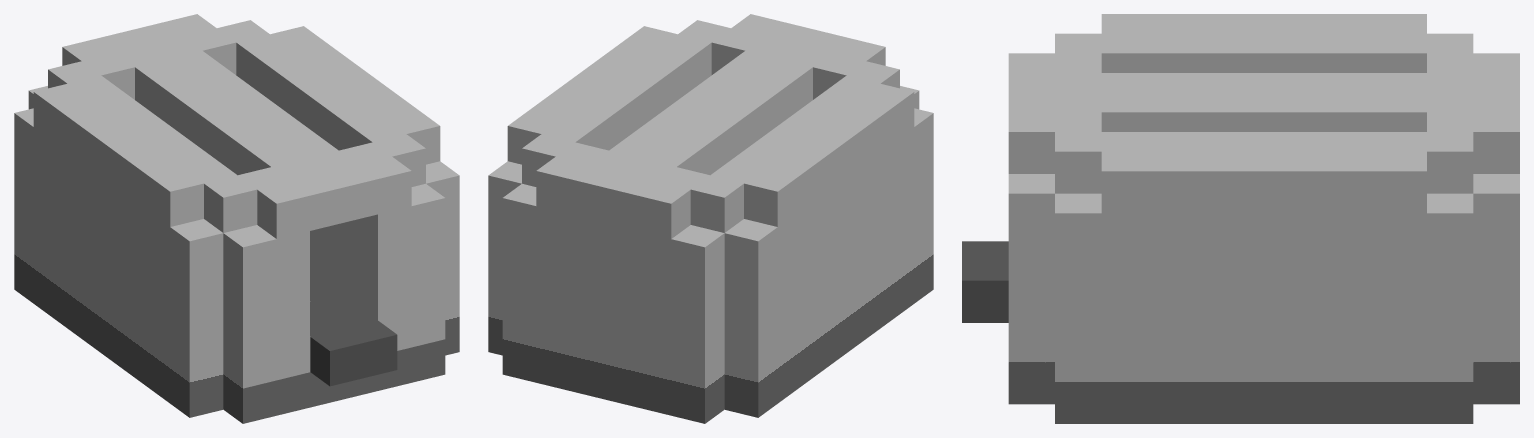
The model's file is Torradeira Down.obj.
3 renders of one model, left to right at view 1: azimuth 30°, elevation 25°; view 2: azimuth 150°, elevation 25°; view 3: azimuth 270°, elevation 25°, orthographic. The views are drawn at different scales.
Parts seen in each view (by area): view 1: Model; view 2: Model; view 3: Model.
Boxes of the visible parts, x1,y1,x2,y2 form: Model: (14, 14, 459, 423); Model: (488, 14, 933, 423); Model: (962, 14, 1519, 423).
Size of the model in its own units: 21.33 by 16 by 32.
1 material, 1 textured.
